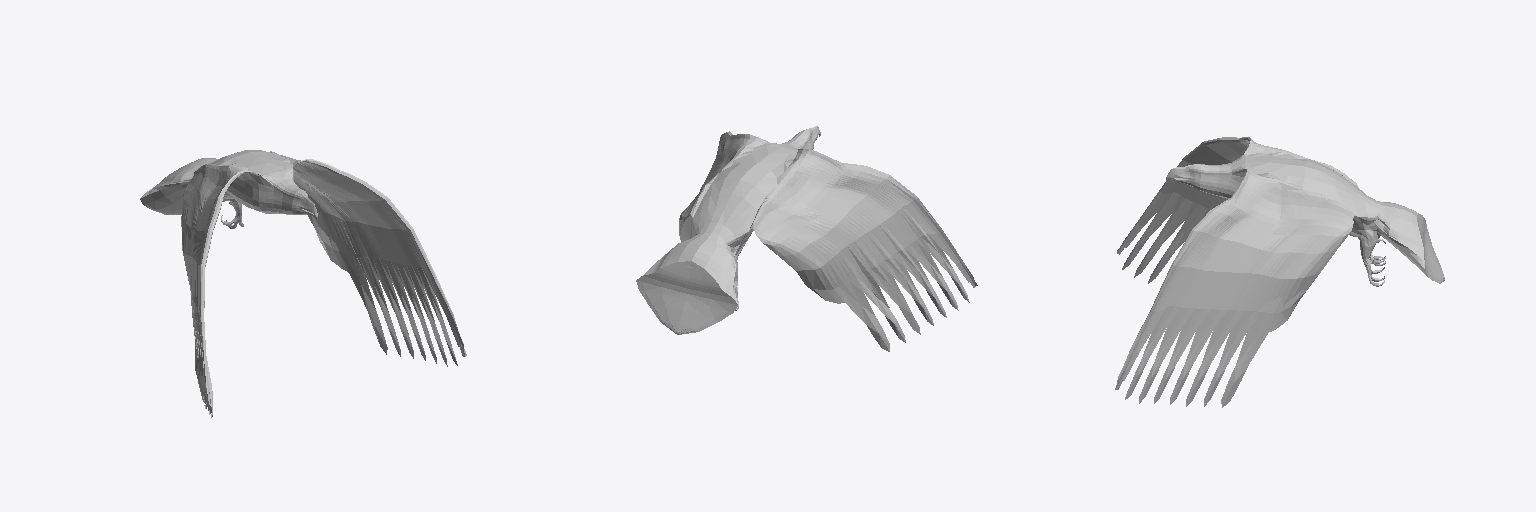
Rendered from Eagle-original_000064.obj.
3 renders of one model, left to right at view 1: azimuth 30°, elevation 25°; view 2: azimuth 150°, elevation 25°; view 3: azimuth 270°, elevation 25°, orthographic.
Visible parts, largest first — view 1: Flugel_Plane.003; view 2: Flugel_Plane.003; view 3: Flugel_Plane.003.
Part boxes in pixels (left/top/right/bottom): Flugel_Plane.003: left=140, top=150, right=466, bottom=417; Flugel_Plane.003: left=636, top=126, right=977, bottom=351; Flugel_Plane.003: left=1115, top=137, right=1444, bottom=407.
Size of the model in its own units: 5.92 by 4.52 by 6.59.